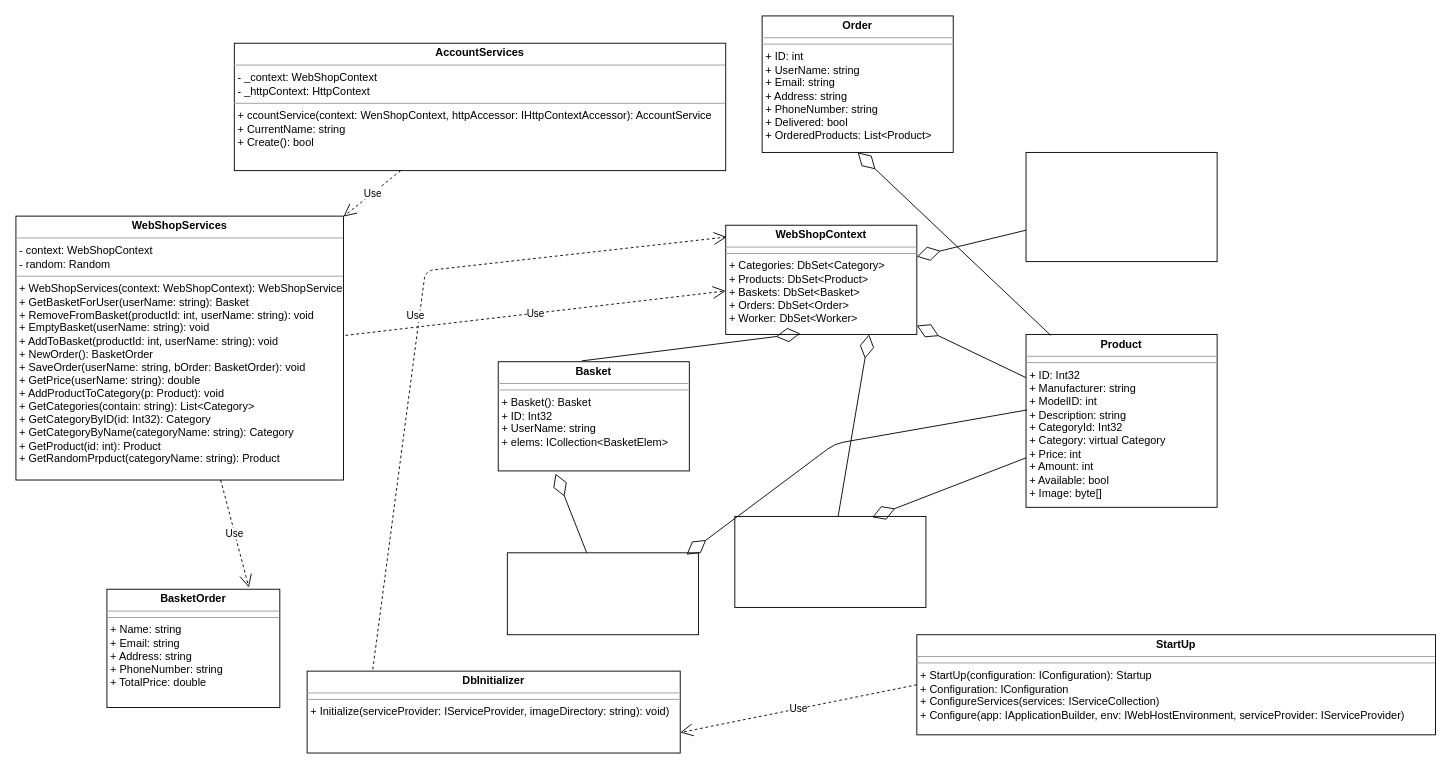
The diagram is 1451 pixels wide and 769 high, and some of its shapes have lost their labels. The centre of each missing label's shape, as x and y in pixels:
BasketElem + ID: Int32 + Product: Product + Amount: int: point (602, 593)
Category + ID: Int32 + Name: string + Products: ICollection<Product>: point (830, 561)
Worker + ID: Int32 + Name: string + UserName: string + UserPassword: string: point (1121, 207)
